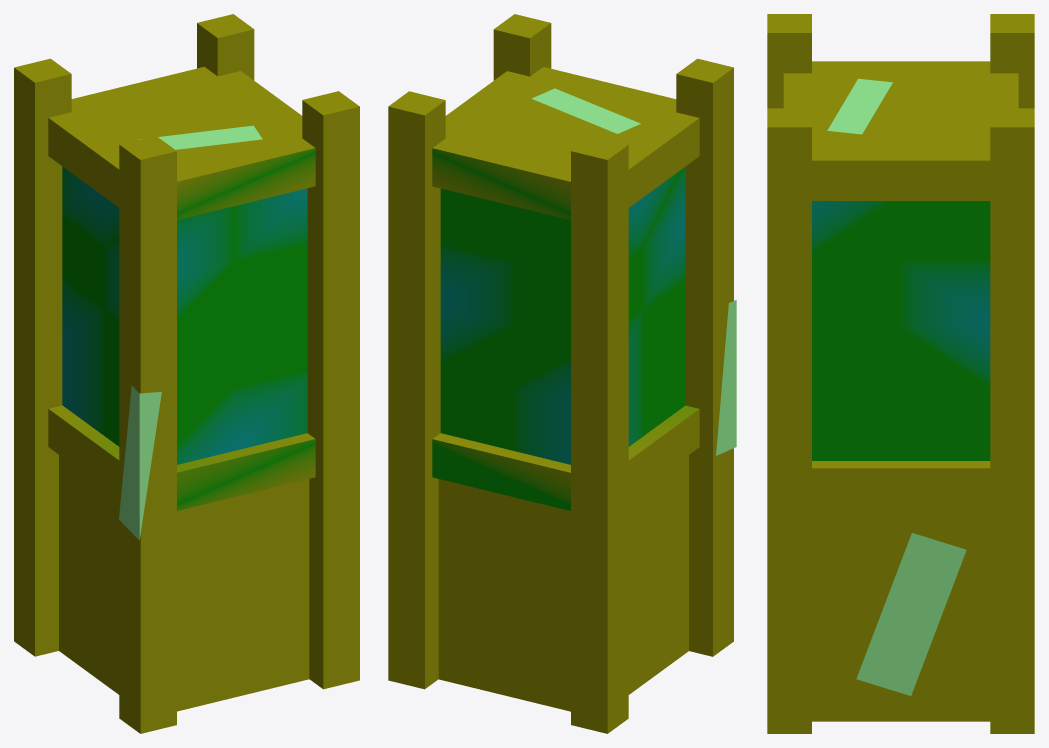
File: SM_ENV_LKNVLD_PaperLantern_B.gltf
The picture shows the model from 3 angles, left to right: view 1: azimuth 30°, elevation 25°; view 2: azimuth 150°, elevation 25°; view 3: azimuth 270°, elevation 25°; orthographic projection. The views are drawn at different scales.
Visible parts, largest first — view 1: SM_ENV_LKNVLD_PaperLantern_B; view 2: SM_ENV_LKNVLD_PaperLantern_B; view 3: SM_ENV_LKNVLD_PaperLantern_B.
Part boxes in pixels (x1,y1,x2,y2): SM_ENV_LKNVLD_PaperLantern_B: (14,14,359,733); SM_ENV_LKNVLD_PaperLantern_B: (388,14,736,733); SM_ENV_LKNVLD_PaperLantern_B: (767,14,1034,733).
Bounding box in the file's own units: 0.397 × 0.9844 × 0.3959.
